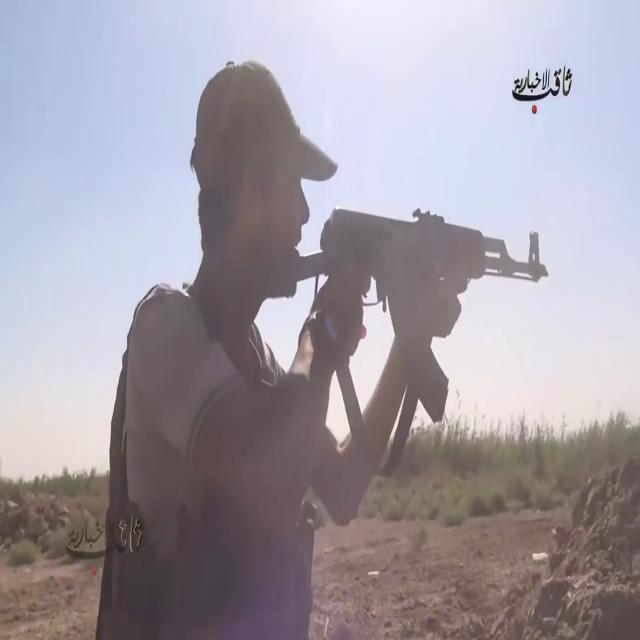long weapon: (299, 184, 553, 409)
